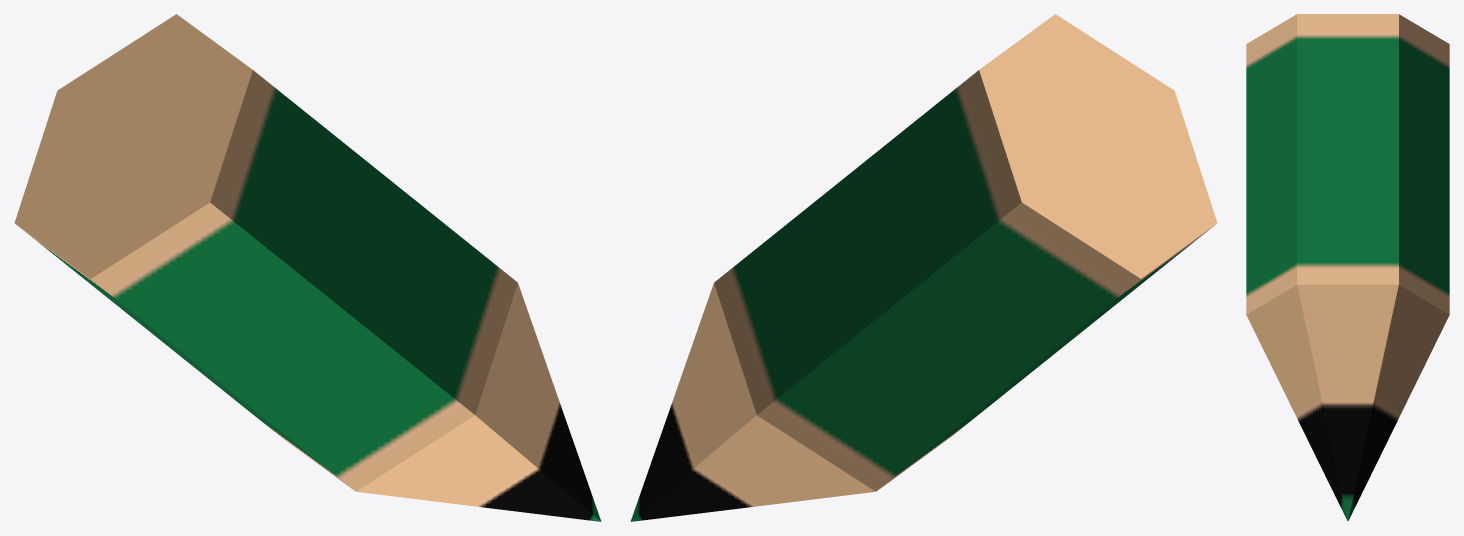
Rendered from TD.ico.obj.
3 renders of one model, left to right at view 1: azimuth 30°, elevation 25°; view 2: azimuth 150°, elevation 25°; view 3: azimuth 270°, elevation 25°, orthographic. The views are drawn at different scales.
Bounding box in the file's own units: 3.68 × 3.69 × 1.78.
Materials: 1 (1 with a texture image).
